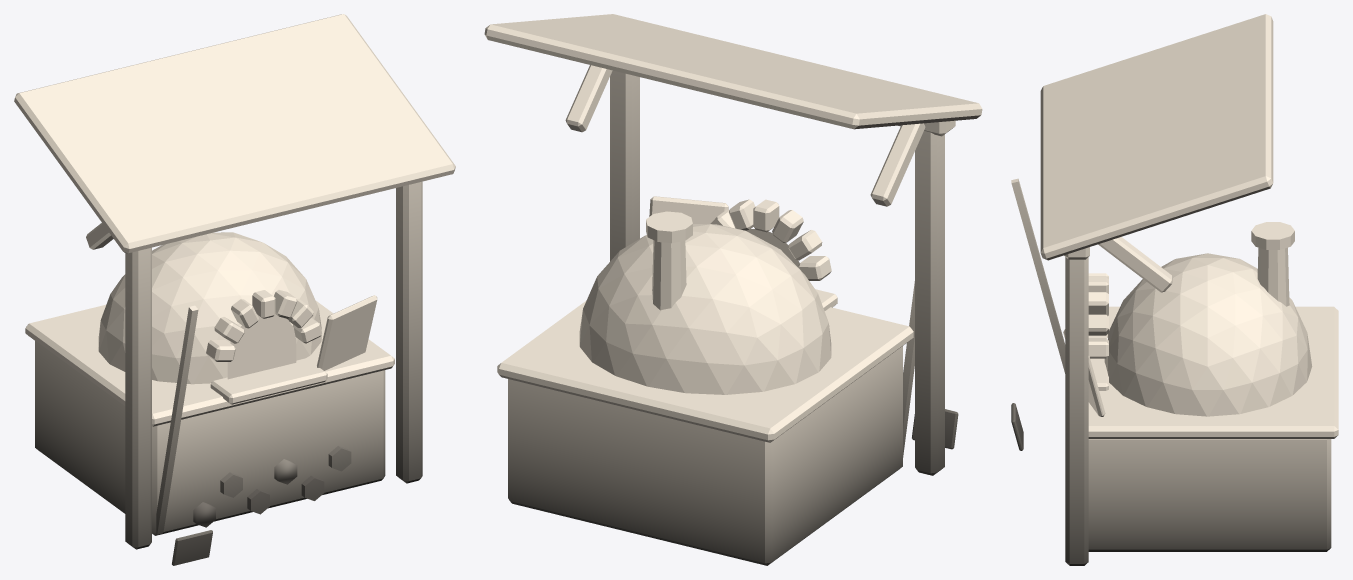
Rendered from SM_VK_BreadOven.fbx.
3 renders of one model, left to right at view 1: azimuth 30°, elevation 25°; view 2: azimuth 150°, elevation 25°; view 3: azimuth 270°, elevation 25°, orthographic. The views are drawn at different scales.
Parts seen in each view (by area): view 1: SM_VK_BreadOven.001; view 2: SM_VK_BreadOven.001; view 3: SM_VK_BreadOven.001.
Boxes of the visible parts, x1,y1,x2,y2 form: SM_VK_BreadOven.001: (14,14,455,565); SM_VK_BreadOven.001: (484,14,982,565); SM_VK_BreadOven.001: (1011,14,1338,565).
Bounding box in the file's own units: 2.7 × 3.06 × 2.25.
